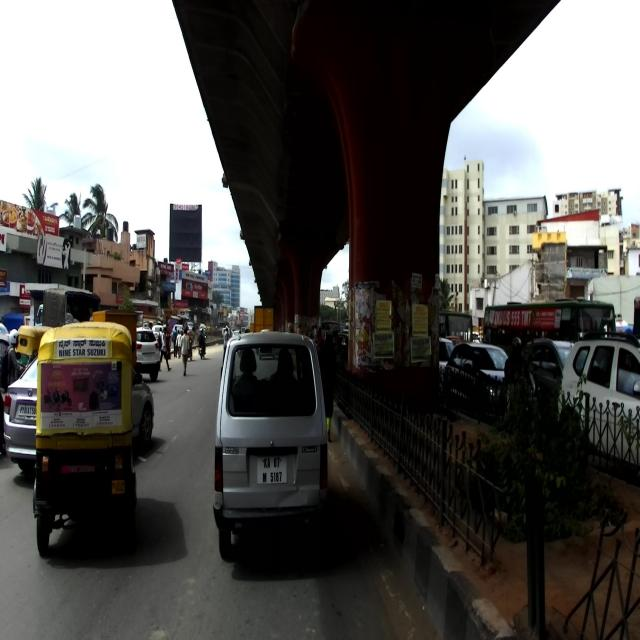autorickshaw: (31, 321, 140, 558)
car: (211, 327, 328, 560)
